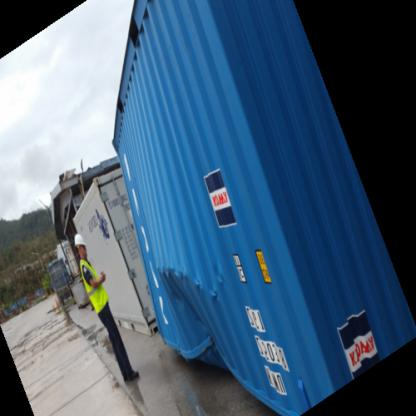Damage: (142, 259, 242, 367)
